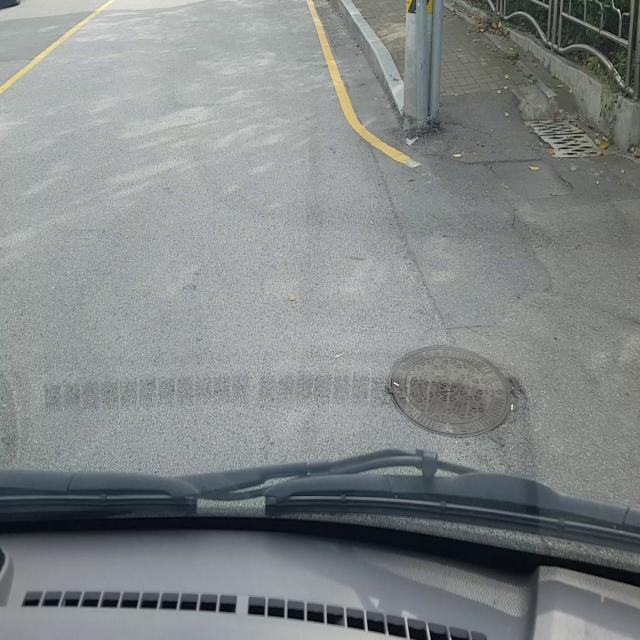Pothole: (384, 343, 527, 438)
